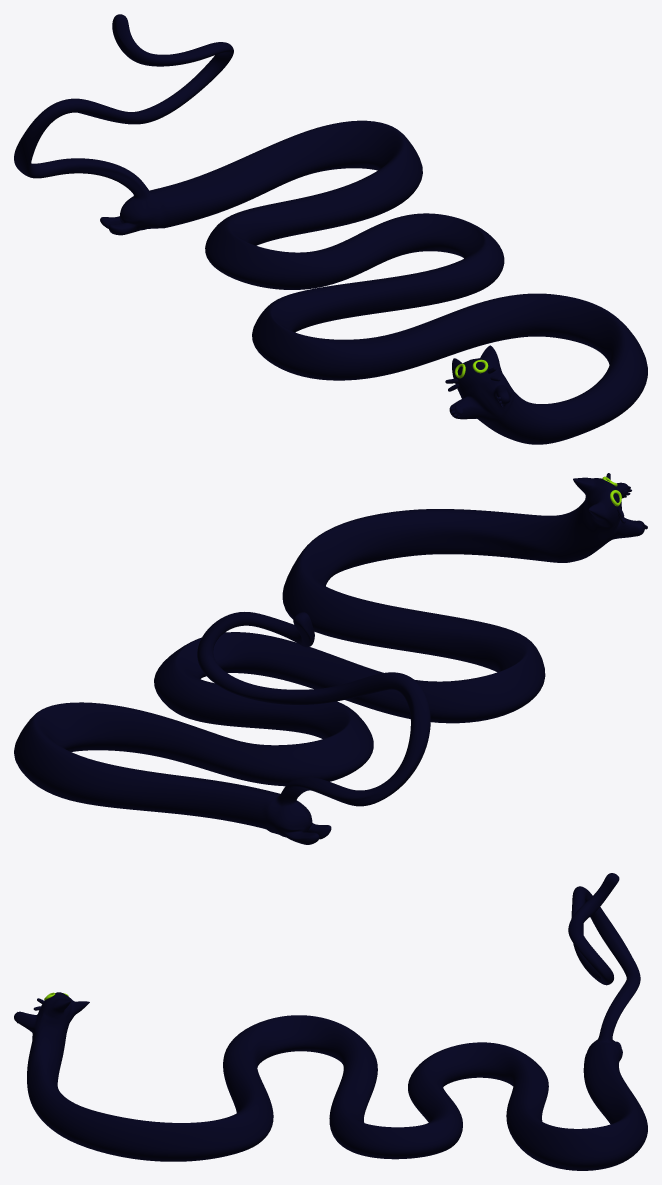
The picture shows the model from 3 angles, top to bottom: view 1: azimuth 30°, elevation 25°; view 2: azimuth 150°, elevation 25°; view 3: azimuth 270°, elevation 25°; orthographic projection. The views are drawn at different scales.
Parts seen in each view (by area): view 1: Freehand001_Blaaaaaaaaack_0; view 2: Freehand001_Blaaaaaaaaack_0; view 3: Freehand001_Blaaaaaaaaack_0.
Boxes of the visible parts, x1,y1,x2,y2 form: Freehand001_Blaaaaaaaaack_0: (14,14,647,444); Freehand001_Blaaaaaaaaack_0: (14,477,644,844); Freehand001_Blaaaaaaaaack_0: (14,873,647,1170).
Size of the model in its own units: 0.0711 by 0.0379 by 0.1164.
